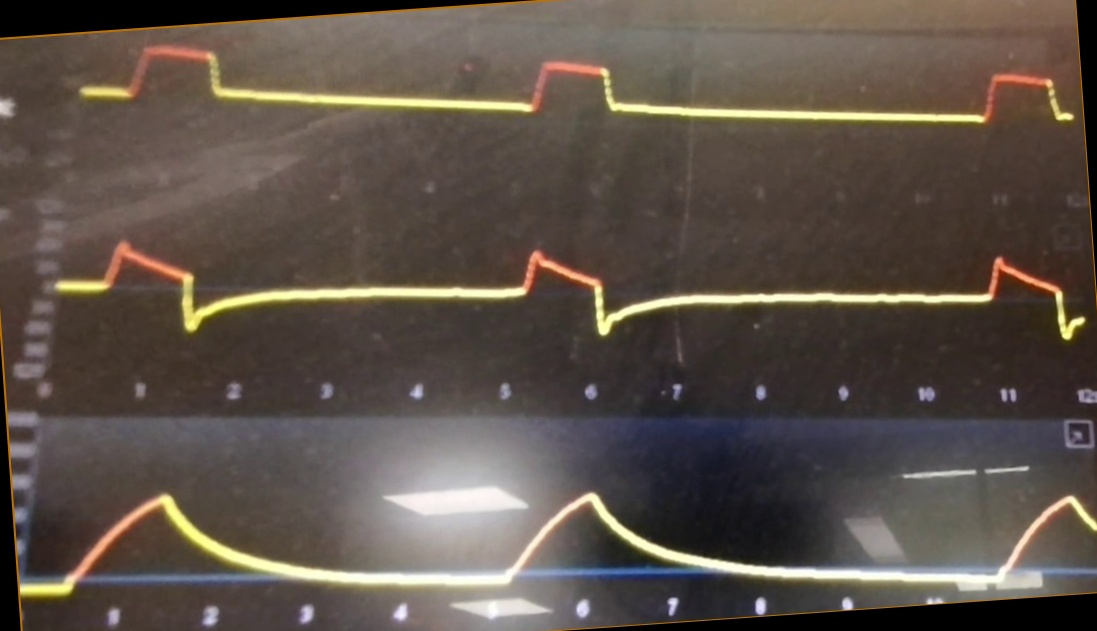Normal Flow: (58, 225, 1085, 366)
Normal Volume: (22, 477, 1097, 596)
